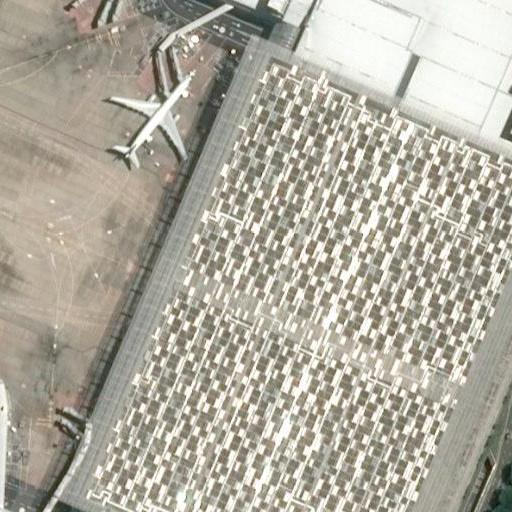Aircraft: (104, 73, 191, 166)
